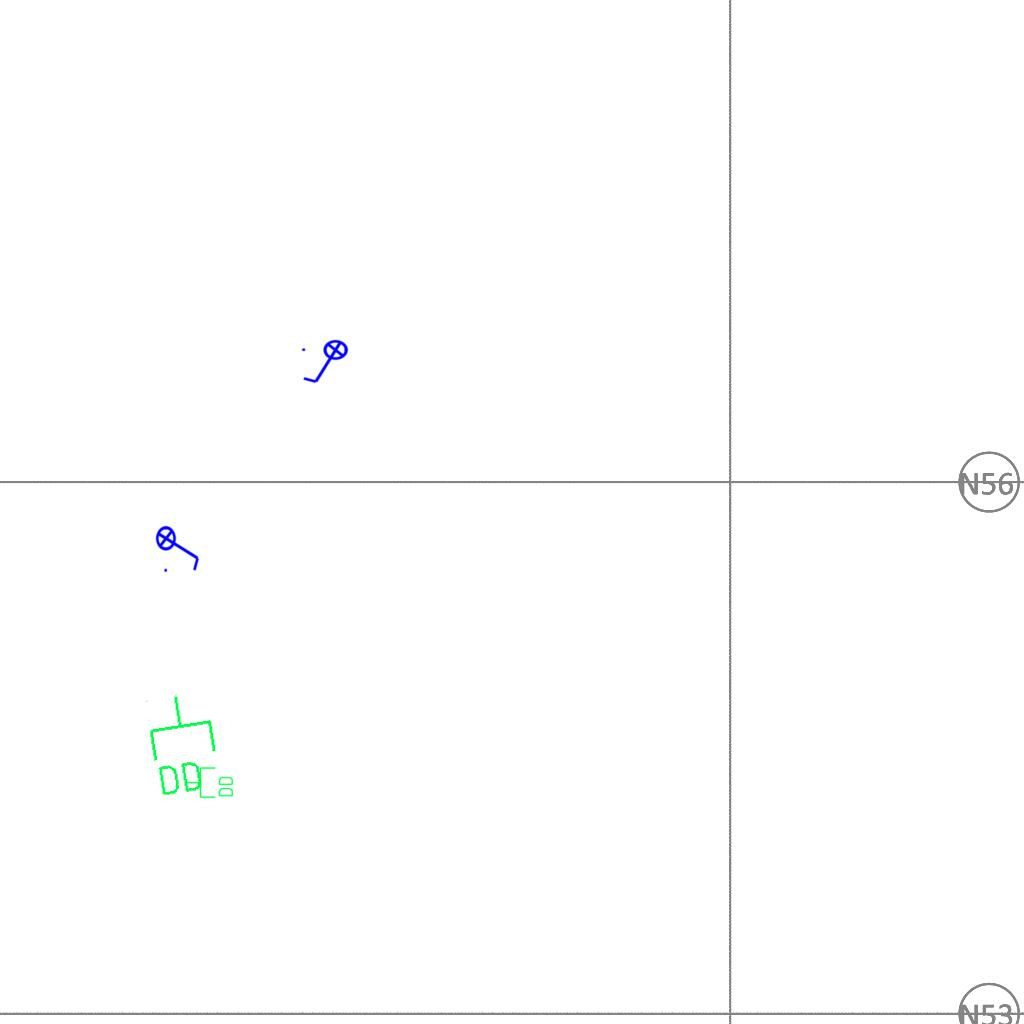Ausschalter_beleuchtet: (299, 339, 355, 387), (155, 519, 203, 575)
Datenanschluss_zweifach: (140, 688, 225, 801), (184, 766, 235, 800)
